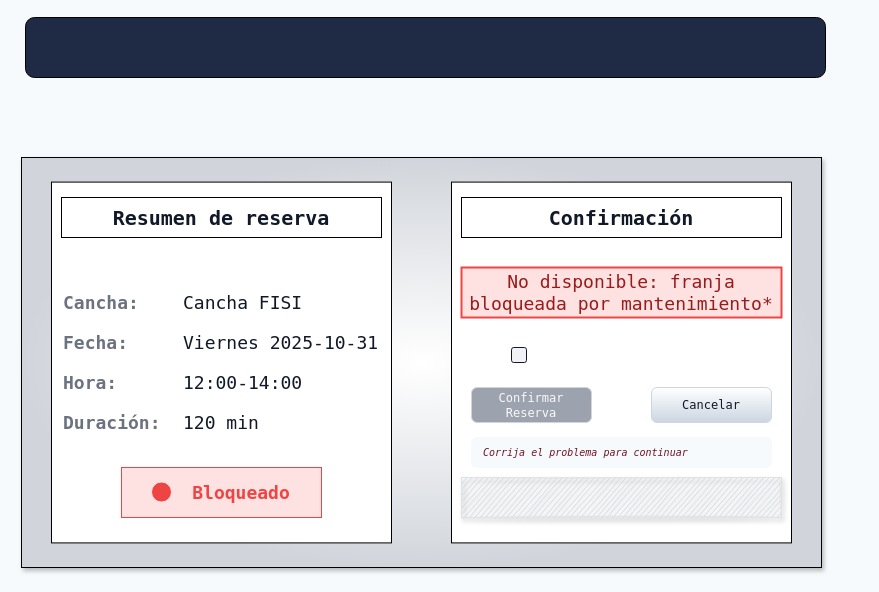
This 879x592 diagram has some shape labels left out. Here are the shapes that lost their labels. From the top down, the centre of each, then its label:
At pixel 425 47: "Sistema de Reservas FISI - Reservar".
At pixel 518 354: "Acepto los Términos y Condiciones".
At pixel 622 498: "* Los bloqueos tienen prioridad sobre las reservas".
